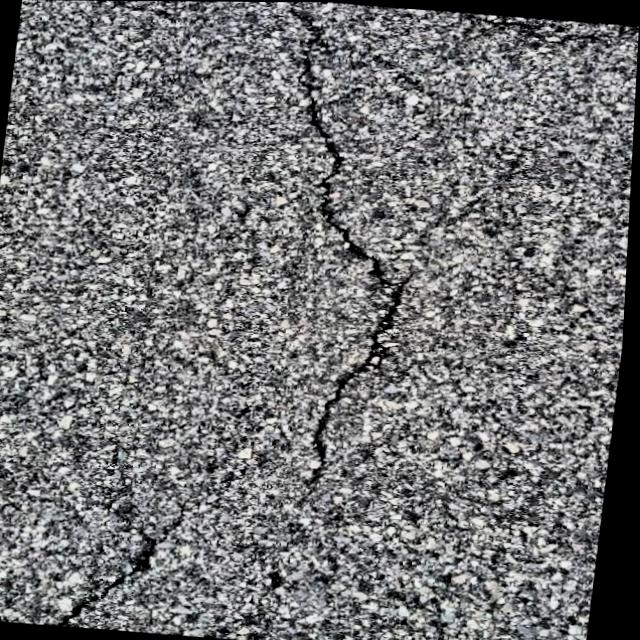Clogged Drains: (292, 2, 408, 492)
